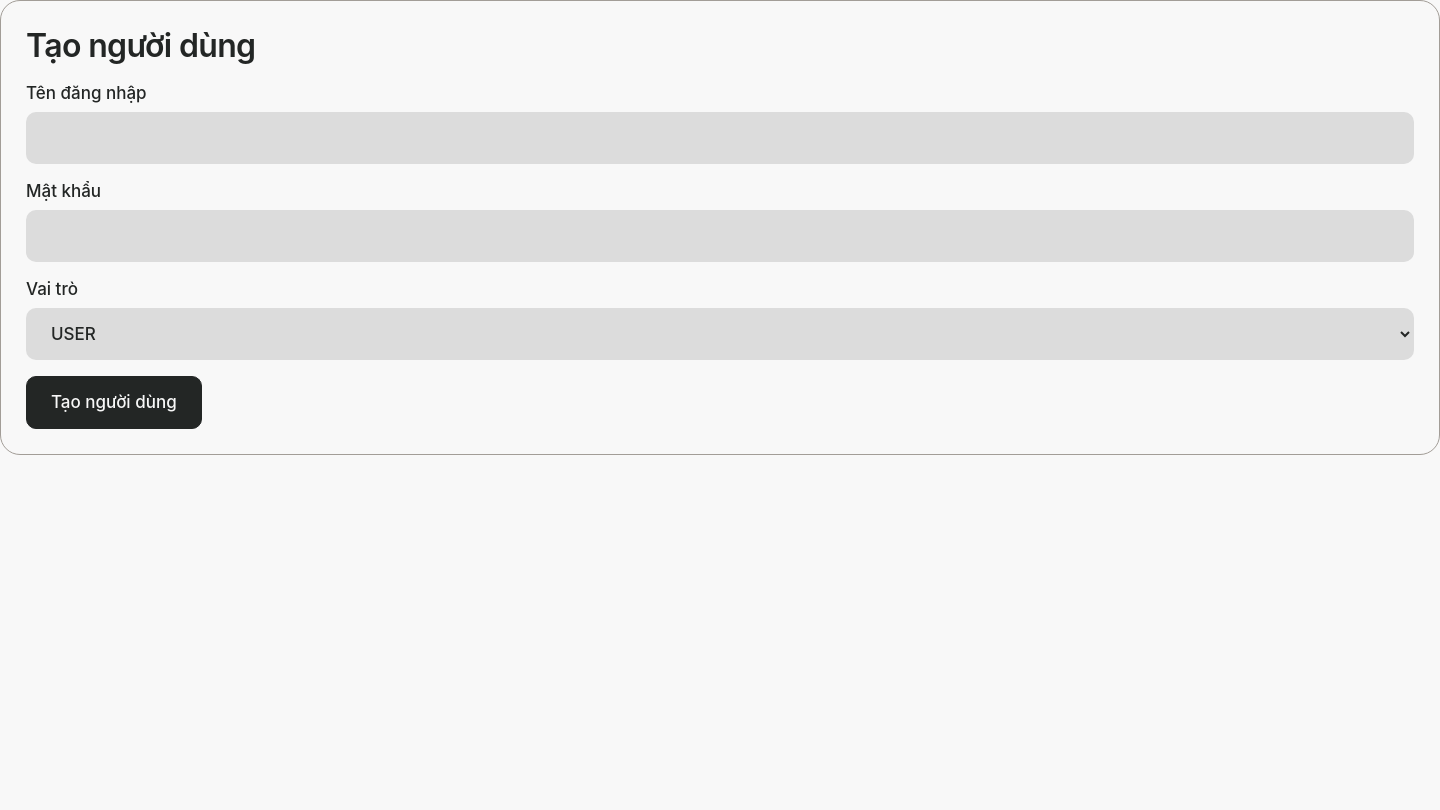
Test: UserForm (U1) › mã 81 hiện popup trùng tên đăng nhập và giữ nguyên dữ liệu đã nhập
Type "Bob" into the field labelled "Tên đăng nhập" at (720, 138), box [26, 112, 1414, 164]
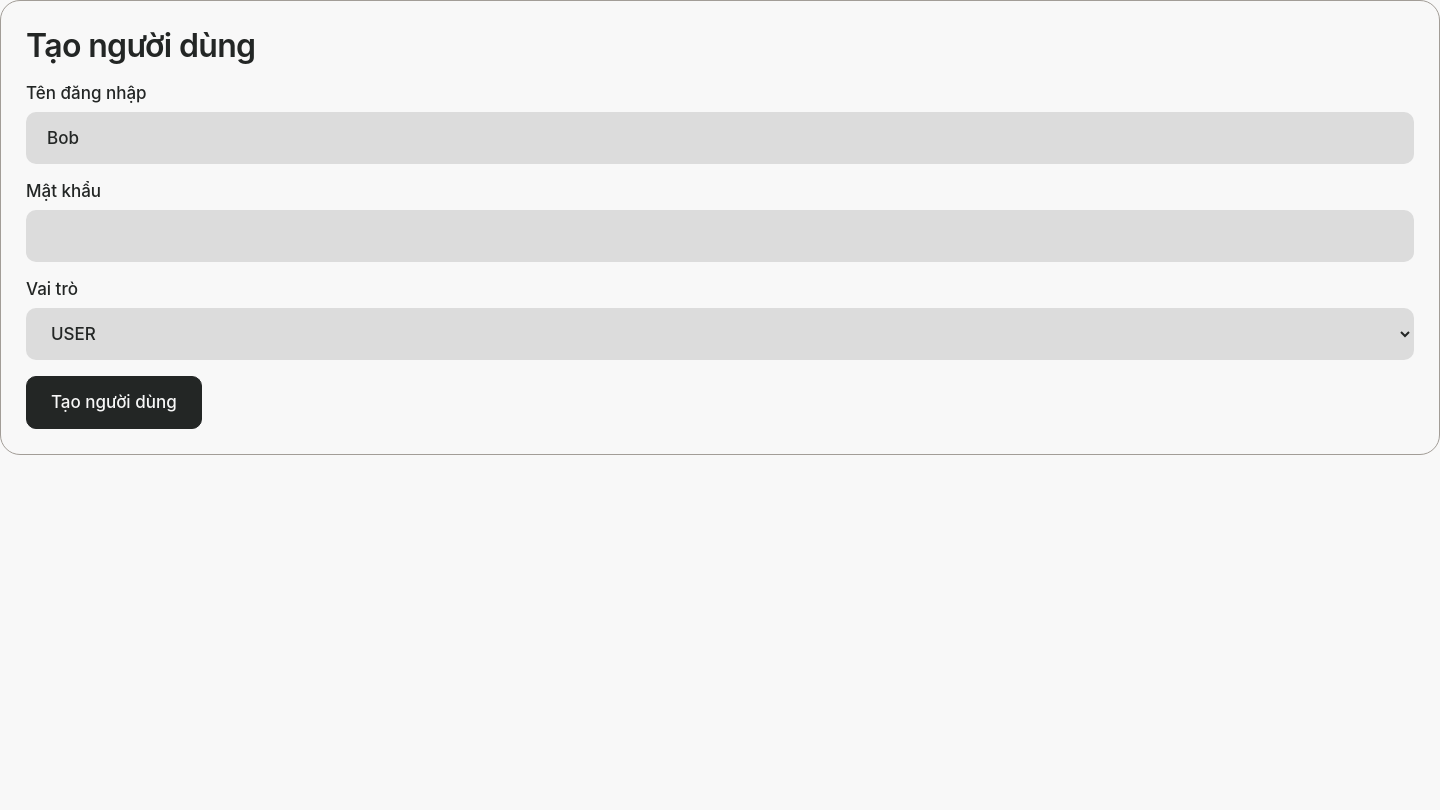
Type "password1" into the password field labelled "Mật khẩu" at (720, 236), box [26, 210, 1414, 262]
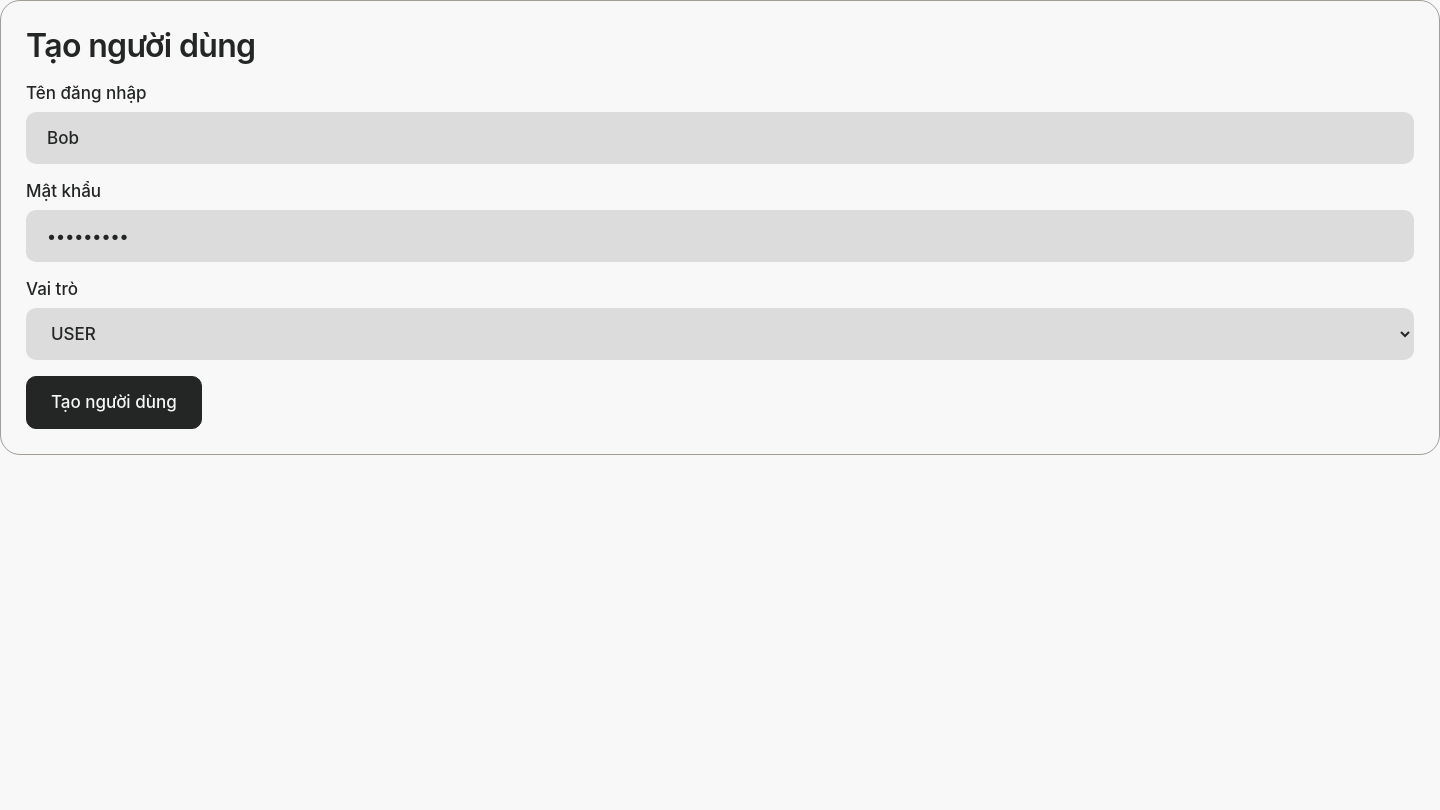
Click the button "Tạo người dùng" at (114, 403), box [26, 376, 202, 429]
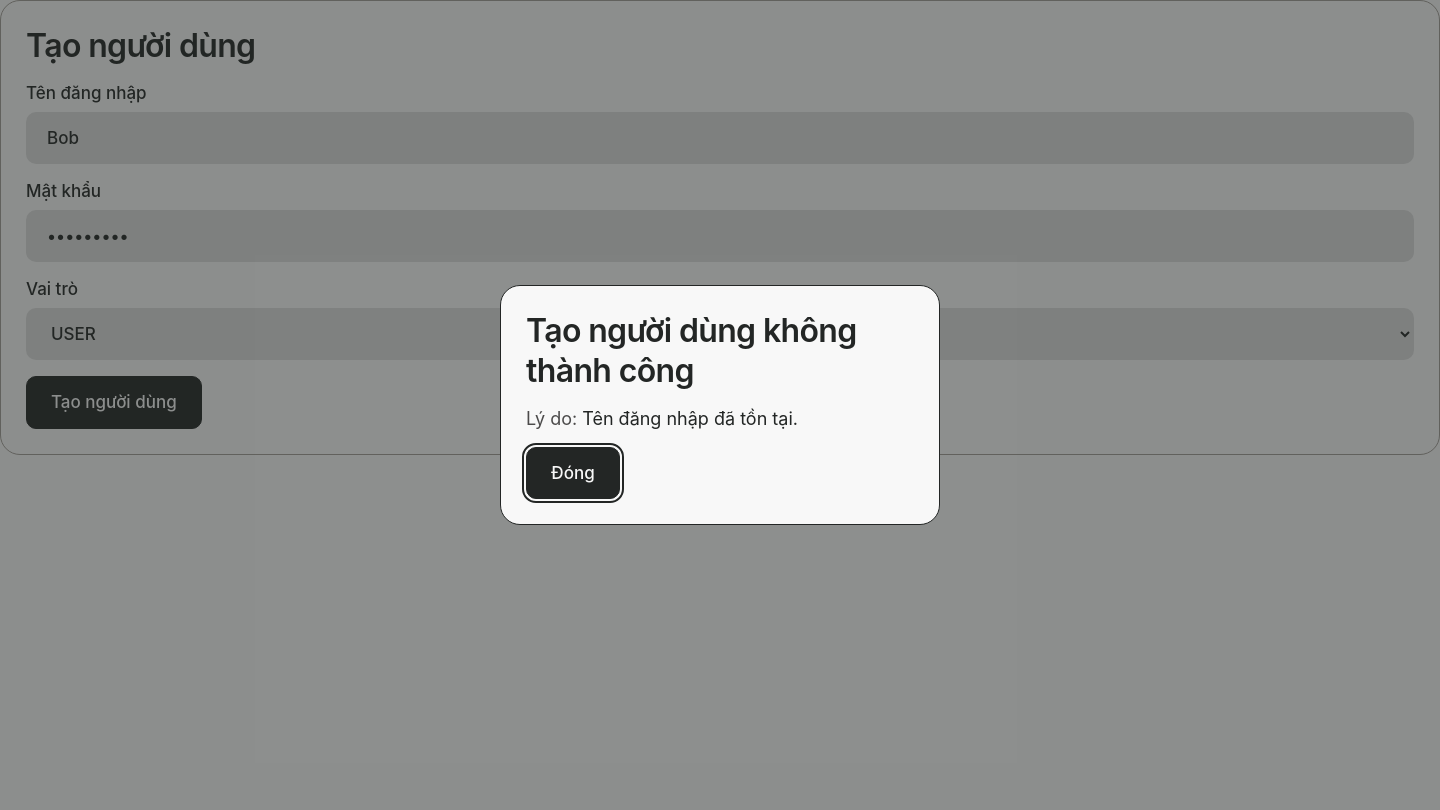
Now the dialog shows "Tạo người dùng không thành công", box [526, 311, 857, 390]
Now the dialog shows "Tên đăng nhập đã tồn tại.", box [582, 408, 798, 429]
